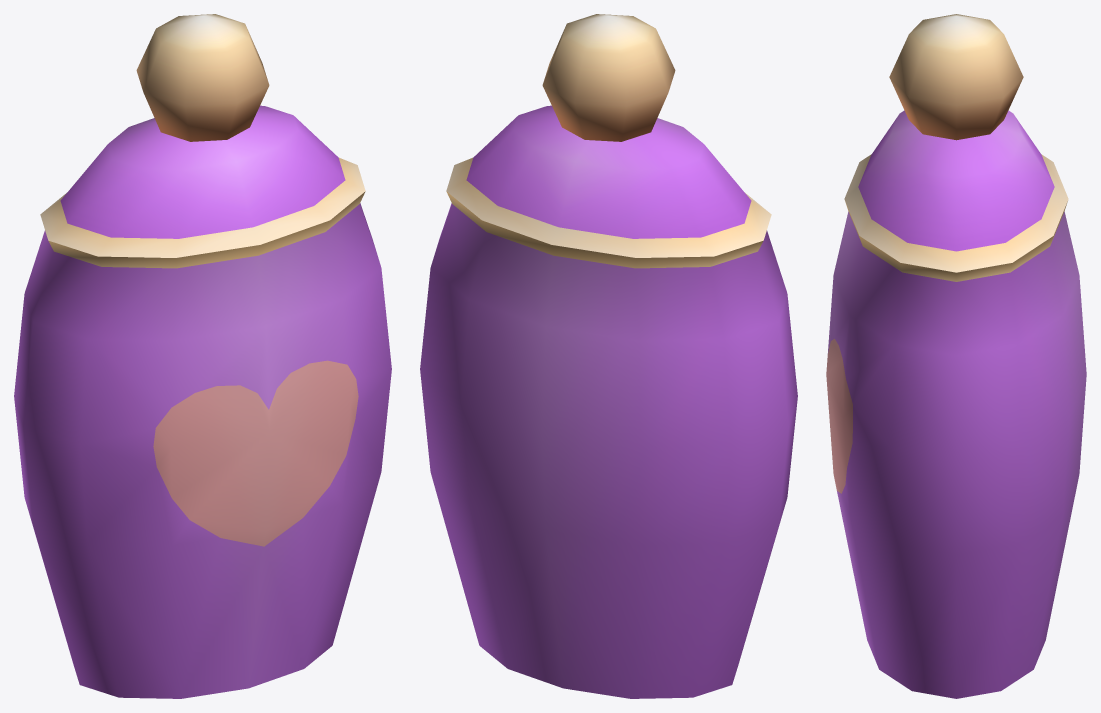
The model's file is Doll_OB_Vanity_001_1.fbx.
3 views of the same model, side by side, from view 1: azimuth 30°, elevation 25°; view 2: azimuth 150°, elevation 25°; view 3: azimuth 270°, elevation 25° (orthographic). The views are drawn at different scales.
Visible parts, largest first — view 1: Doll_OB_Vanity_001_1; view 2: Doll_OB_Vanity_001_1; view 3: Doll_OB_Vanity_001_1.
Boxes of the visible parts, x1,y1,x2,y2 form: Doll_OB_Vanity_001_1: (14,14,391,698); Doll_OB_Vanity_001_1: (420,14,797,698); Doll_OB_Vanity_001_1: (826,14,1086,698).
Bounding box in the file's own units: 10.46 × 17.79 × 6.73.
